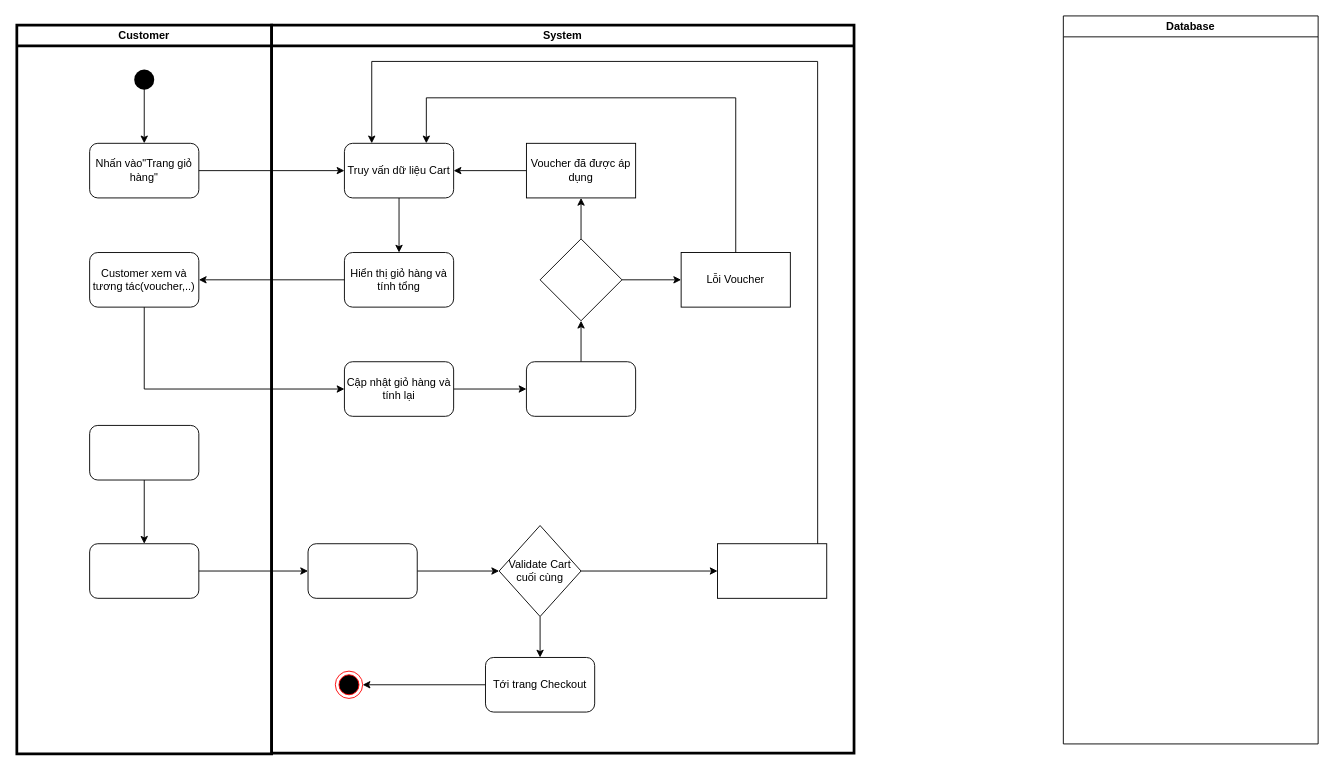
This 1334x771 diagram has some shape labels left out. The centre of each missing label's shape, as x and y in pixels:
Chọn "Hình thức thanh toán": point (144, 452)
Kiểm tra giỏ hàng cuối cùng: point (362, 570)
Kiểm tra Voucher: point (581, 388)
Lỗi giá, tồn kho: point (772, 570)
Nhấn "Thanh toán": point (144, 570)
Validate Voucher: point (580, 279)
